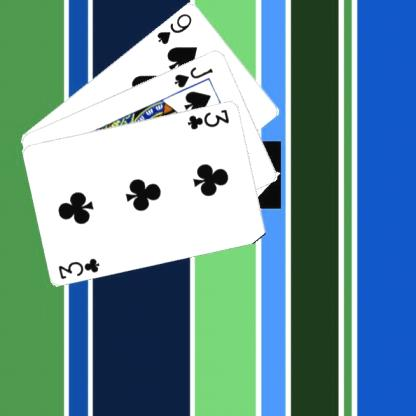3C: (55, 255, 102, 281), (184, 106, 231, 131)
9S: (154, 10, 193, 46)
JS: (171, 64, 214, 89)
